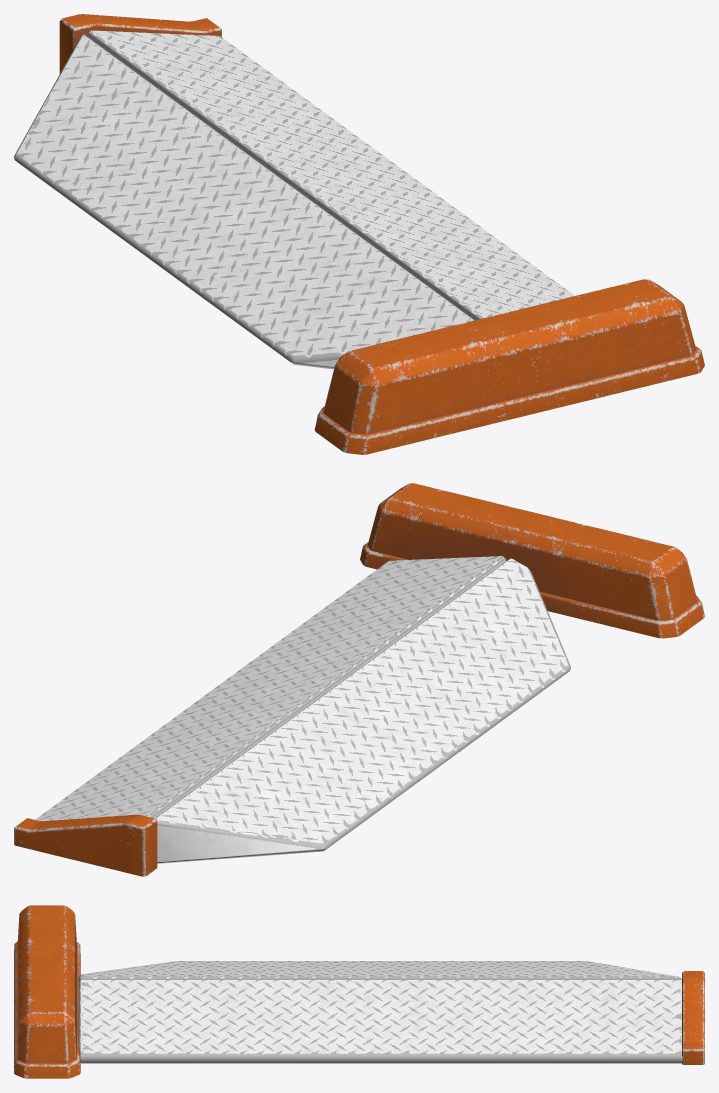
The model's file is SM_Stopper_01.fbx.
3 renders of one model, top to bottom at view 1: azimuth 30°, elevation 25°; view 2: azimuth 150°, elevation 25°; view 3: azimuth 270°, elevation 25°, orthographic. The views are drawn at different scales.
Visible parts, largest first — view 1: SM_Stopper_01_LOD0; view 2: SM_Stopper_01_LOD0; view 3: SM_Stopper_01_LOD0.
Part boxes in pixels (bbox=[...]): SM_Stopper_01_LOD0: bbox=[14, 14, 704, 454]; SM_Stopper_01_LOD0: bbox=[14, 483, 704, 876]; SM_Stopper_01_LOD0: bbox=[14, 905, 704, 1078].
Size of the model in its own units: 50.86 by 114 by 10.
